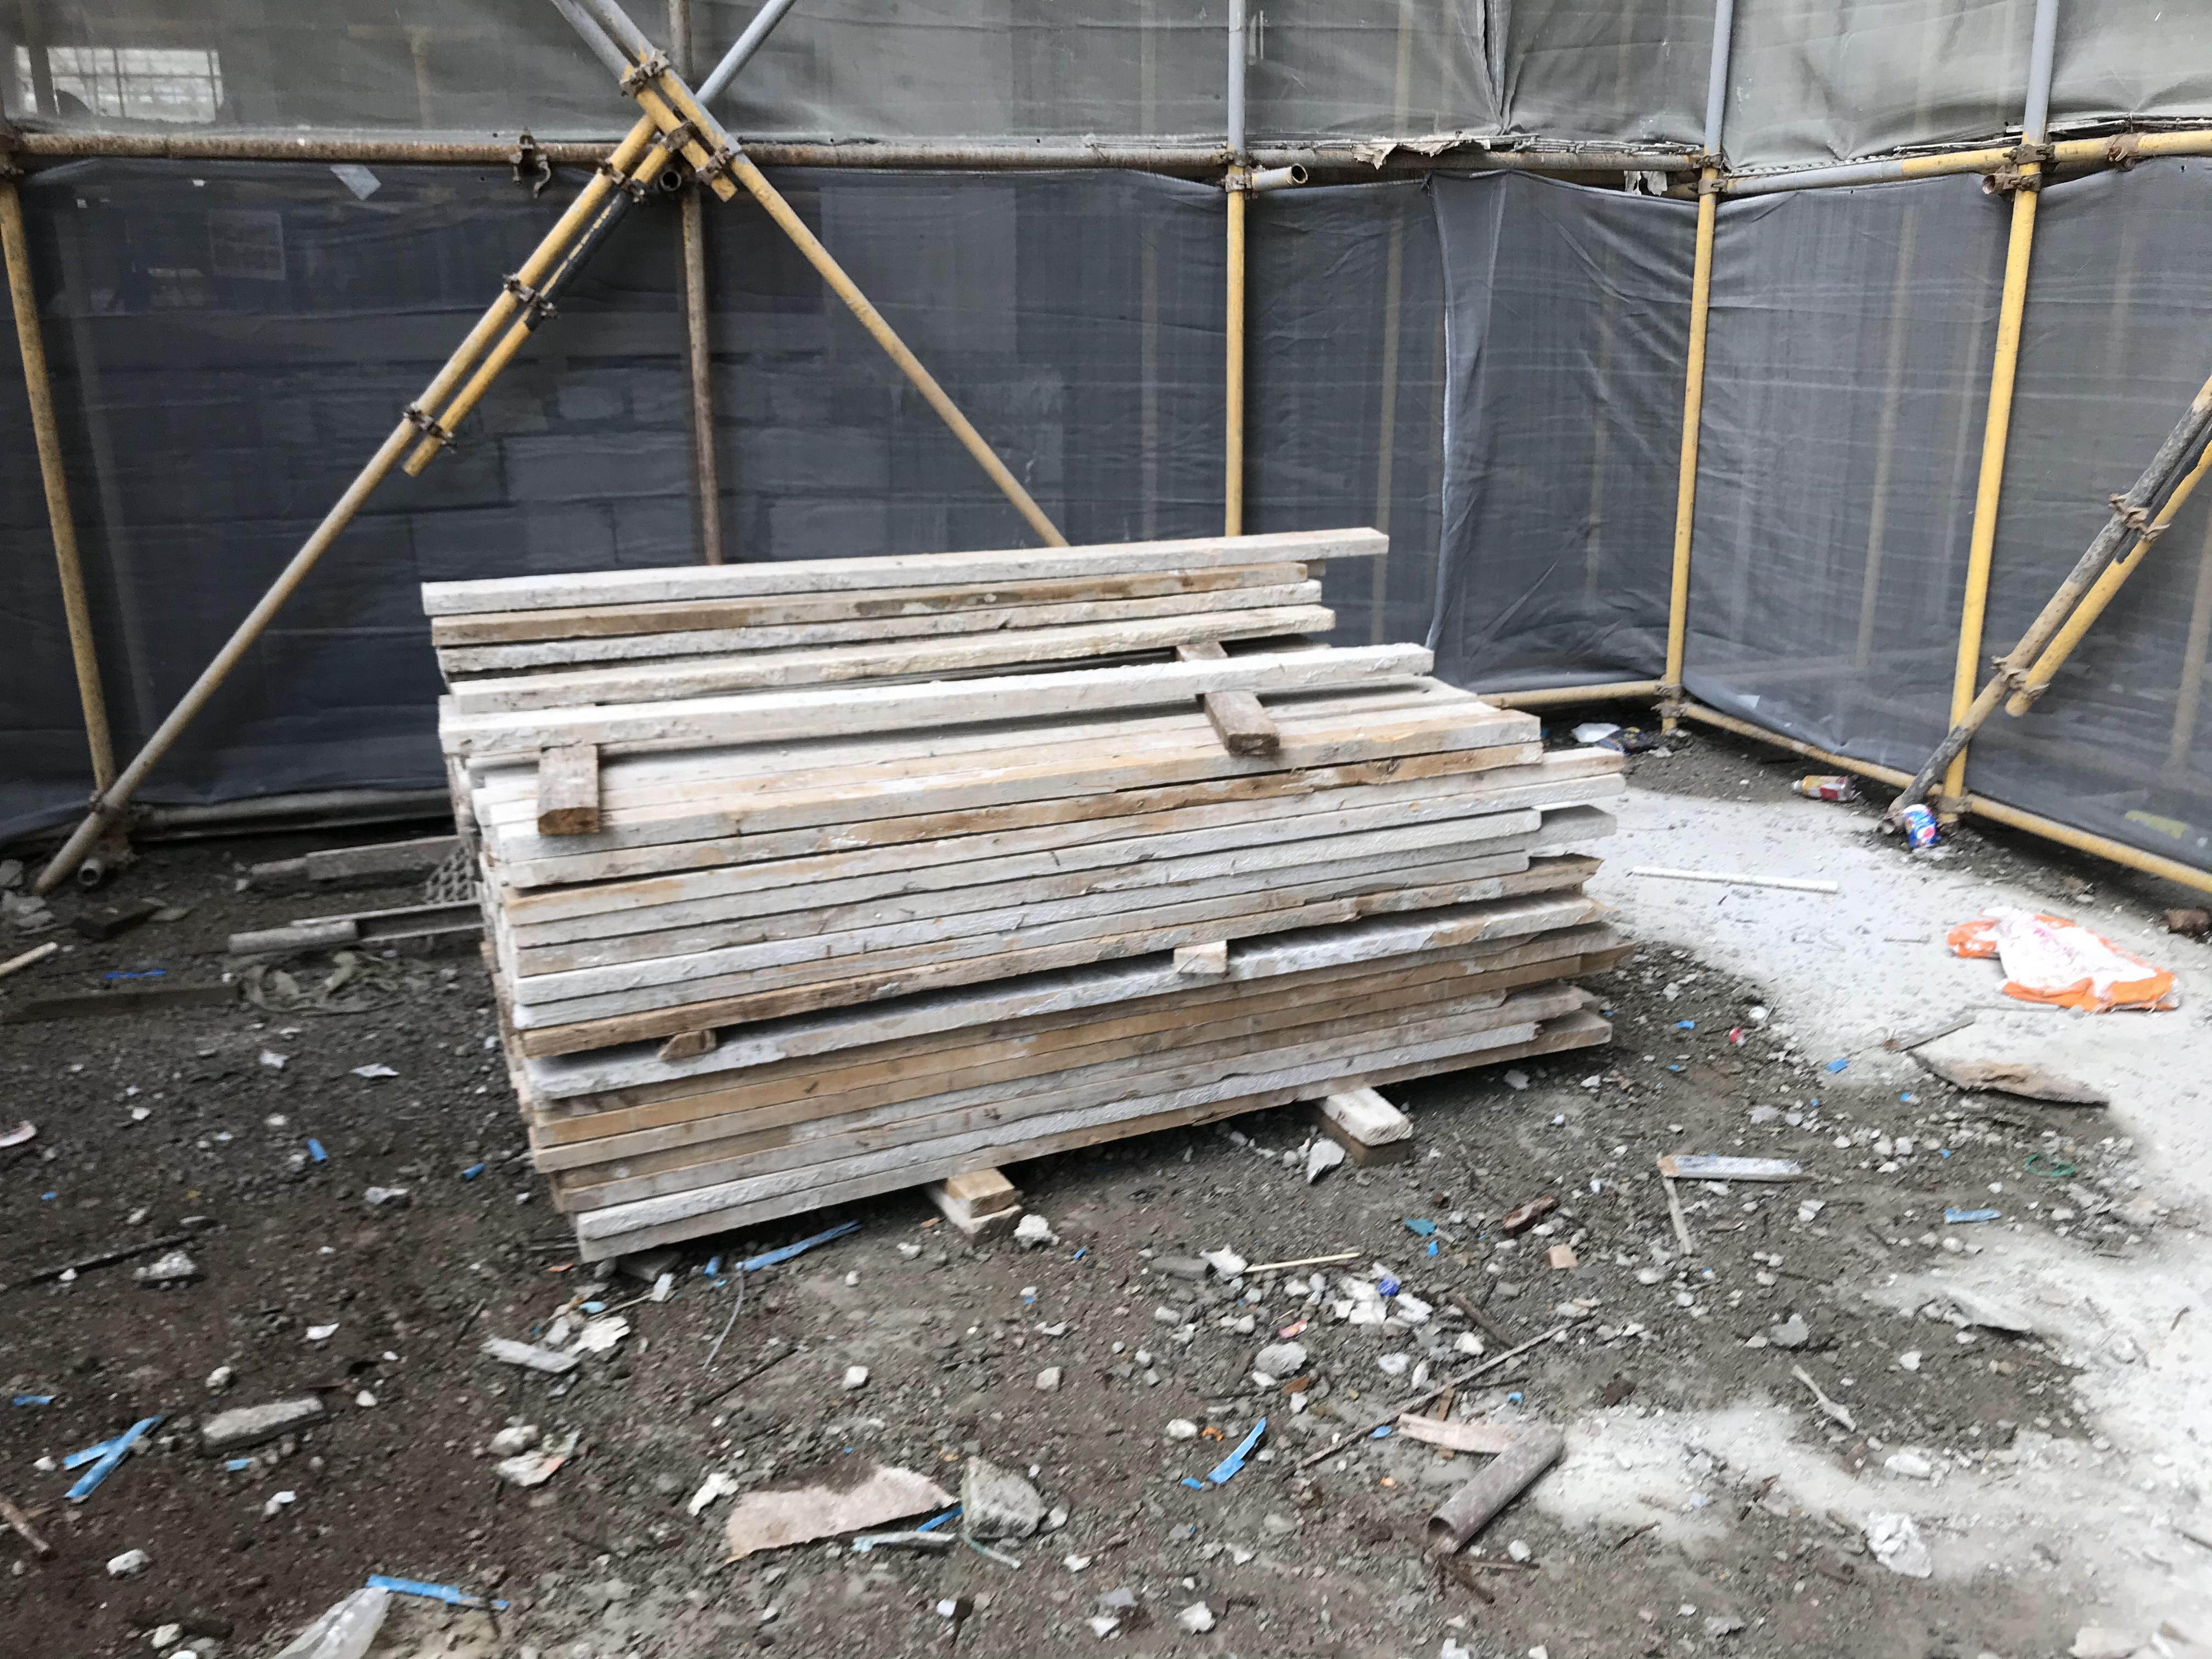wood: (415, 519, 1615, 1270)
